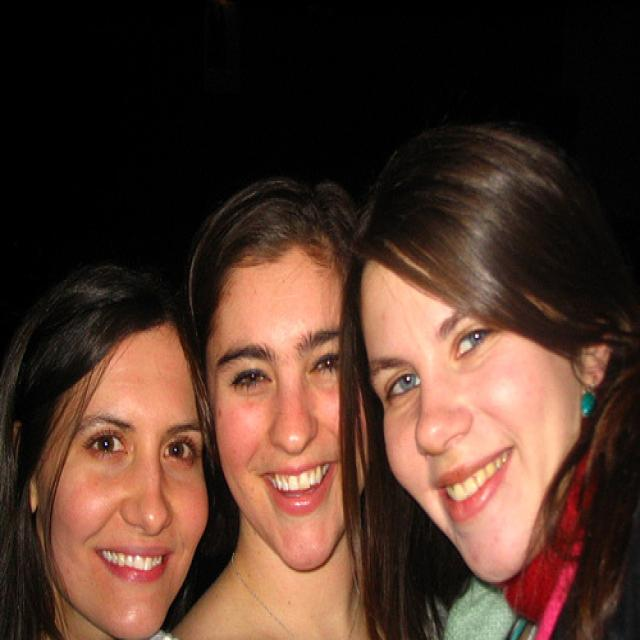person: (345, 126, 640, 639), (174, 172, 391, 639), (9, 266, 212, 640)
